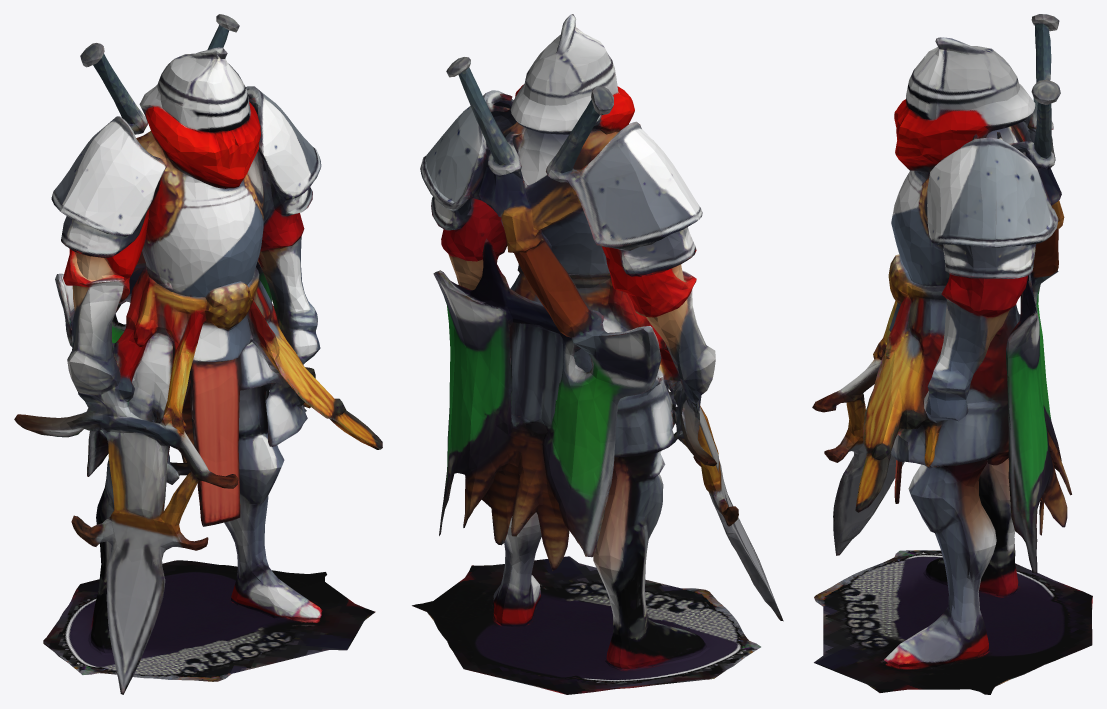
Rendered from anime_renais_warrior.glb.
3 views of the same model, side by side, from view 1: azimuth 30°, elevation 25°; view 2: azimuth 150°, elevation 25°; view 3: azimuth 270°, elevation 25° (orthographic). The views are drawn at different scales.
Visible parts, largest first — view 1: world; view 2: world; view 3: world.
Part boxes in pixels (x1,y1,x2,y2): world: (14, 14, 382, 694); world: (412, 14, 783, 694); world: (812, 14, 1092, 694).
Bounding box in the file's own units: 0.5467 × 1 × 0.4278.
1 material, 1 textured.
